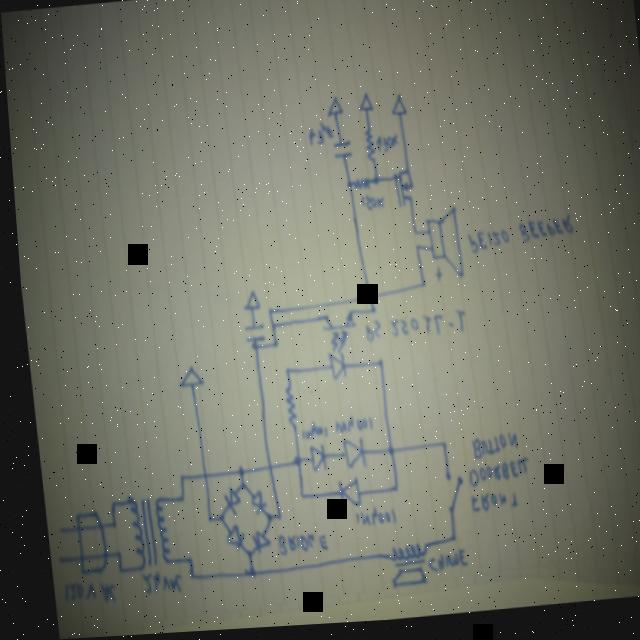capacitor: (236, 324, 260, 346), (327, 142, 350, 163)
crossover: (360, 293, 369, 304), (257, 464, 266, 475), (193, 472, 200, 482)
diode: (326, 479, 353, 513), (333, 439, 359, 473), (214, 525, 238, 554), (212, 487, 233, 519), (300, 445, 319, 477), (239, 529, 262, 555), (238, 490, 259, 518)
ground: (169, 364, 198, 392), (234, 289, 257, 313), (385, 95, 405, 121), (320, 98, 340, 122), (353, 95, 371, 116)
junction: (283, 457, 294, 470), (227, 465, 237, 479), (229, 482, 239, 494), (378, 448, 388, 460), (243, 345, 254, 355), (207, 514, 216, 526), (256, 513, 264, 526), (361, 308, 371, 318), (259, 308, 268, 319), (369, 361, 378, 372), (238, 568, 246, 580), (340, 181, 348, 193), (264, 342, 273, 352), (366, 180, 375, 190), (408, 247, 417, 257), (263, 323, 271, 334), (382, 486, 390, 497), (236, 550, 244, 561), (413, 283, 421, 293), (277, 368, 284, 379), (406, 232, 414, 241), (178, 572, 185, 582), (289, 493, 296, 503), (267, 513, 273, 524), (170, 496, 177, 504), (170, 475, 177, 483), (107, 567, 114, 575), (197, 517, 204, 525), (100, 500, 106, 509), (105, 550, 111, 559), (440, 539, 446, 548), (431, 444, 437, 453), (101, 521, 107, 529), (177, 557, 182, 565)
resistor: (274, 385, 292, 432), (358, 132, 373, 167), (346, 178, 366, 196)
switch: (431, 475, 458, 520)
terminal: (44, 552, 55, 564), (46, 524, 56, 536)
text: (458, 218, 571, 260), (354, 312, 463, 351), (457, 461, 523, 492), (50, 577, 108, 608), (461, 435, 511, 465), (265, 532, 322, 558), (130, 569, 175, 599), (459, 493, 510, 518), (342, 506, 390, 532), (415, 553, 459, 578), (324, 414, 366, 437), (302, 123, 331, 151), (290, 423, 322, 444), (354, 195, 382, 217), (370, 136, 396, 159)
transformer: (116, 492, 166, 573)
transistor: (386, 170, 412, 215)
